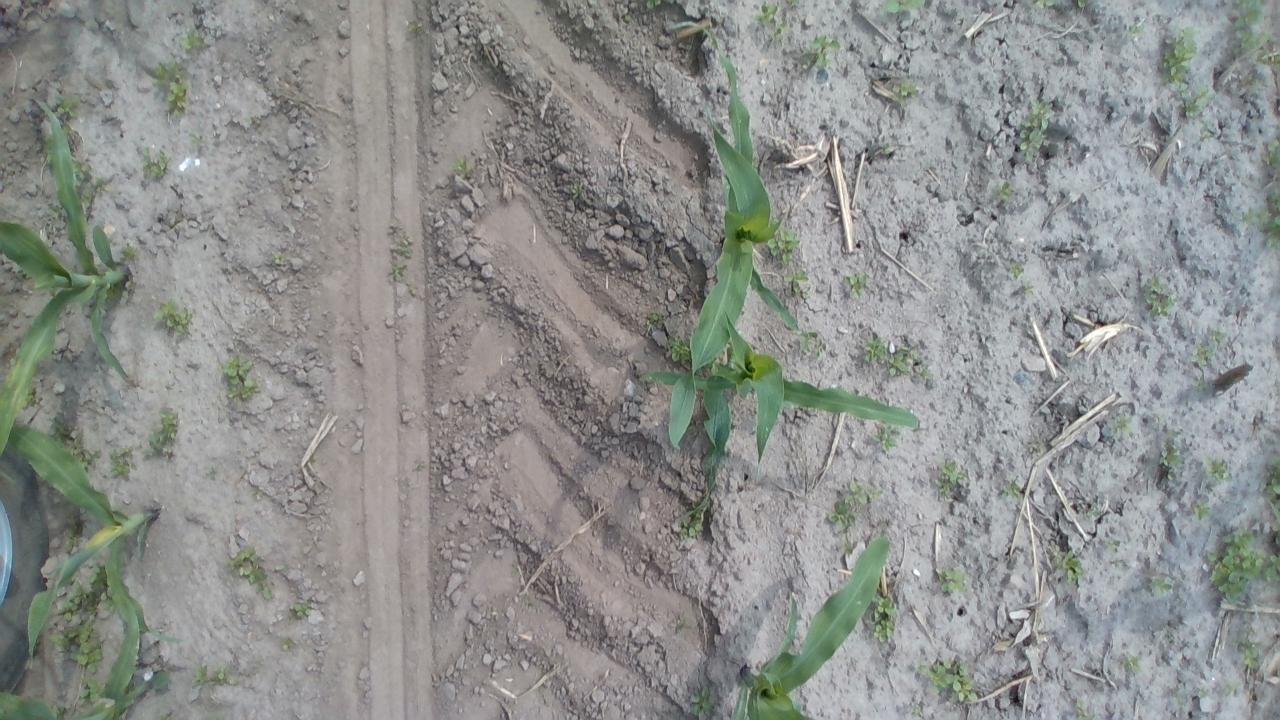Maize: (639, 308, 925, 531), (669, 19, 807, 449), (0, 100, 139, 455), (2, 427, 184, 669), (728, 537, 892, 720), (0, 574, 171, 720)
Weeds: (49, 564, 113, 671), (1205, 526, 1280, 609), (828, 480, 882, 554), (862, 332, 932, 382), (1233, 0, 1280, 72), (224, 546, 284, 602), (914, 658, 982, 706), (152, 56, 192, 122), (1016, 97, 1055, 163), (1159, 27, 1198, 86), (1243, 192, 1280, 251), (219, 356, 263, 404), (754, 0, 800, 41), (153, 299, 195, 341), (389, 224, 414, 292), (800, 32, 840, 74), (147, 409, 179, 456), (1142, 276, 1177, 318), (934, 456, 968, 499), (1188, 332, 1228, 368), (870, 595, 900, 643), (766, 228, 802, 266), (1052, 546, 1086, 584), (689, 682, 722, 720), (936, 565, 970, 599), (1262, 462, 1280, 526), (188, 666, 240, 688), (140, 144, 170, 182), (1157, 435, 1181, 482), (1235, 635, 1263, 675), (678, 503, 706, 542), (48, 414, 82, 446), (891, 72, 924, 104), (48, 92, 81, 124), (870, 424, 902, 456), (84, 172, 114, 205), (1182, 86, 1212, 118), (842, 270, 871, 301), (178, 26, 208, 55), (108, 446, 136, 477), (1148, 573, 1178, 600), (784, 268, 812, 296), (78, 676, 106, 703), (881, 0, 926, 16), (668, 334, 692, 364), (1108, 414, 1134, 441), (799, 326, 822, 354), (287, 600, 316, 622), (1001, 480, 1028, 503), (1262, 138, 1280, 172), (992, 180, 1016, 204), (1206, 457, 1228, 483), (1068, 698, 1094, 719), (78, 446, 99, 472), (452, 153, 473, 179), (1190, 499, 1212, 522), (74, 159, 92, 186), (1194, 368, 1212, 394), (1170, 684, 1188, 710), (1122, 651, 1142, 674), (46, 200, 66, 222), (120, 240, 140, 262), (646, 307, 664, 330), (65, 528, 82, 552), (404, 18, 424, 38), (18, 386, 38, 406), (1004, 262, 1025, 281), (570, 180, 588, 202), (878, 141, 898, 159), (280, 635, 300, 653), (1031, 0, 1063, 11), (1028, 441, 1048, 458), (268, 251, 288, 268), (1196, 124, 1214, 142), (906, 703, 925, 720), (1087, 504, 1103, 524), (1128, 21, 1146, 38), (1224, 682, 1242, 698), (1105, 538, 1121, 556), (676, 612, 688, 634), (643, 0, 666, 11), (1154, 412, 1168, 428), (1022, 282, 1036, 298), (188, 131, 202, 146), (1196, 688, 1213, 700), (1111, 560, 1126, 572), (1077, 0, 1088, 11), (624, 14, 634, 24), (492, 610, 502, 618)
